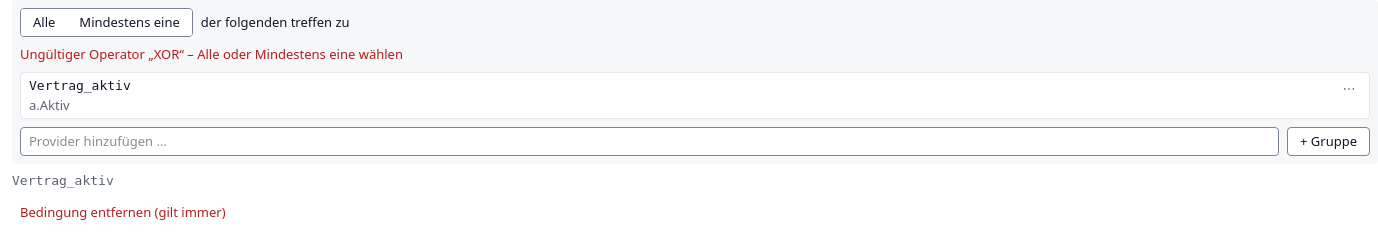
Test: ConditionBuilder › Fehlschlag: Operator „XOR“ zeigt Hinweis, Klick auf „Alle“ setzt AND
expect the text "Ungültiger Operator „XOR“ – Alle oder Mindestens eine wählen" is shown: met, box [20, 45, 403, 63]
Click the button "Alle" at (44, 22), box [21, 9, 67, 36]
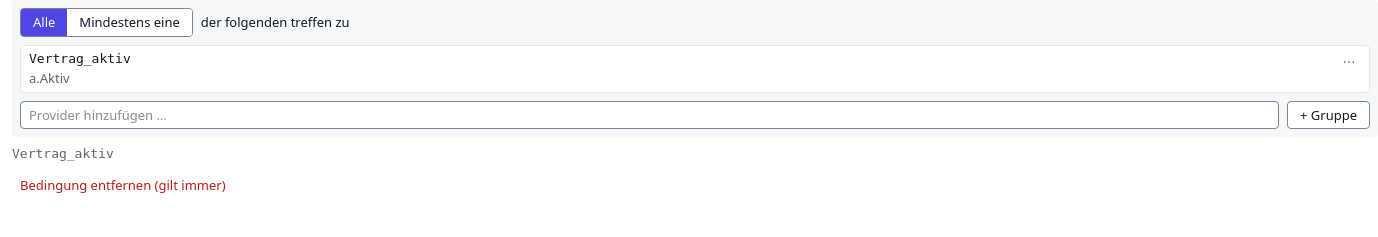
expect the text "Ungültiger Operator" is gone: met
